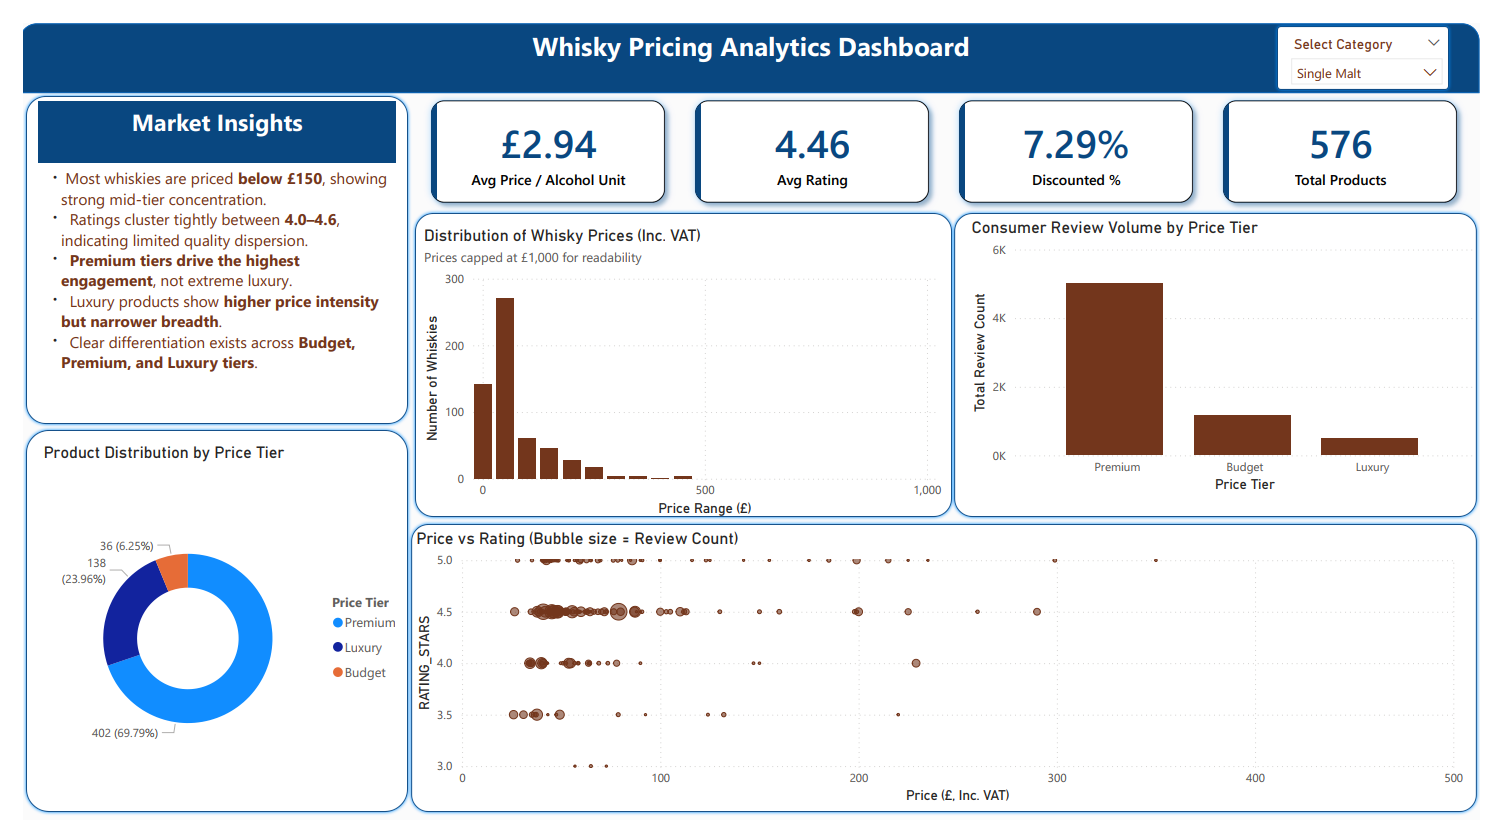

The page's visual inventory and layout, read from the dashboard file:
{"tool":"powerbi","page":{"name":"Market Overview & Price Positioning","canvas":[1500,820],"ordinal":0},"visuals":[{"type":"cardVisual","fields":{"Data":["_Measures.Avg Price (VAT)","_Measures.Avg Price / Alcohol Unit","_Measures.Avg Rating","_Measures.Discounted %","_Measures.Total Products"]},"box":[396,48,1104,160],"z":0},{"type":"shape","box":[-4,0,1504,64],"z":1000},{"type":"textbox","box":[512,0,480,48],"z":2000},{"type":"shape","box":[400,192,560,320],"z":3000},{"type":"shape","box":[956,192,544,320],"z":4000},{"type":"clusteredColumnChart","title":"Distribution of Whisky Prices (Inc. VAT)","fields":{"Category":["VW_PRODUCT_LATEST.Price (GBP) Bins"],"Y":["CountNonNull(VW_PRODUCT_LATEST.PRODUCT_ID)"]},"box":[416,208,544,304],"z":5000},{"type":"clusteredBarChart","title":"Average Whisky Price by Region","fields":{"Category":["VW_PRODUCT_LATEST.REGION"],"Y":["Sum(VW_PRODUCT_LATEST.PRICE_INC_VAT_GBP)"]},"box":[972,208,528,304],"z":6000},{"type":"shape","box":[396,512,1104,304],"z":7000},{"type":"scatterChart","title":"Price vs Rating (Bubble size = Review Count)","fields":{"X":["VW_PRODUCT_LATEST.PRICE_INC_VAT_GBP"],"Y":["VW_PRODUCT_LATEST.RATING_STARS"],"Size":["Sum(VW_PRODUCT_LATEST.REVIEW_COUNT)"]},"box":[400,520,1088,288],"z":8000},{"type":"shape","box":[0,64,400,352],"z":9000},{"type":"shape","box":[0,416,400,400],"z":10000},{"type":"textbox","box":[16,72,368,64],"z":11000},{"type":"textbox","box":[16,144,368,240],"z":12000},{"type":"donutChart","title":"Product Distribution by Price Tier","fields":{"Category":["VW_PRODUCT_LATEST.PRICE_TIER"],"Y":["CountNonNull(VW_PRODUCT_LATEST.PRODUCT_ID)"]},"box":[16,432,384,384],"z":13000}]}

Visuals, with their boxes in screenshot pixels (x1, y1, x2, y2), scaled from the page's 1500x820 canvas onto the 1502x838 screenshot:
cardVisual - _Measures.Avg Price (VAT) x _Measures.Avg Price / Alcohol Unit: box=[397, 49, 1501, 213]
shape: box=[0, 0, 1501, 65]
textbox: box=[513, 0, 993, 49]
shape: box=[401, 196, 961, 523]
shape: box=[957, 196, 1501, 523]
"Distribution of Whisky Prices (Inc. VAT)" clusteredColumnChart: box=[417, 213, 961, 523]
"Average Whisky Price by Region" clusteredBarChart: box=[973, 213, 1501, 523]
shape: box=[397, 523, 1501, 834]
"Price vs Rating (Bubble size = Review Count)" scatterChart: box=[401, 531, 1490, 826]
shape: box=[0, 65, 401, 425]
shape: box=[0, 425, 401, 834]
textbox: box=[16, 74, 385, 139]
textbox: box=[16, 147, 385, 392]
"Product Distribution by Price Tier" donutChart: box=[16, 441, 401, 834]
